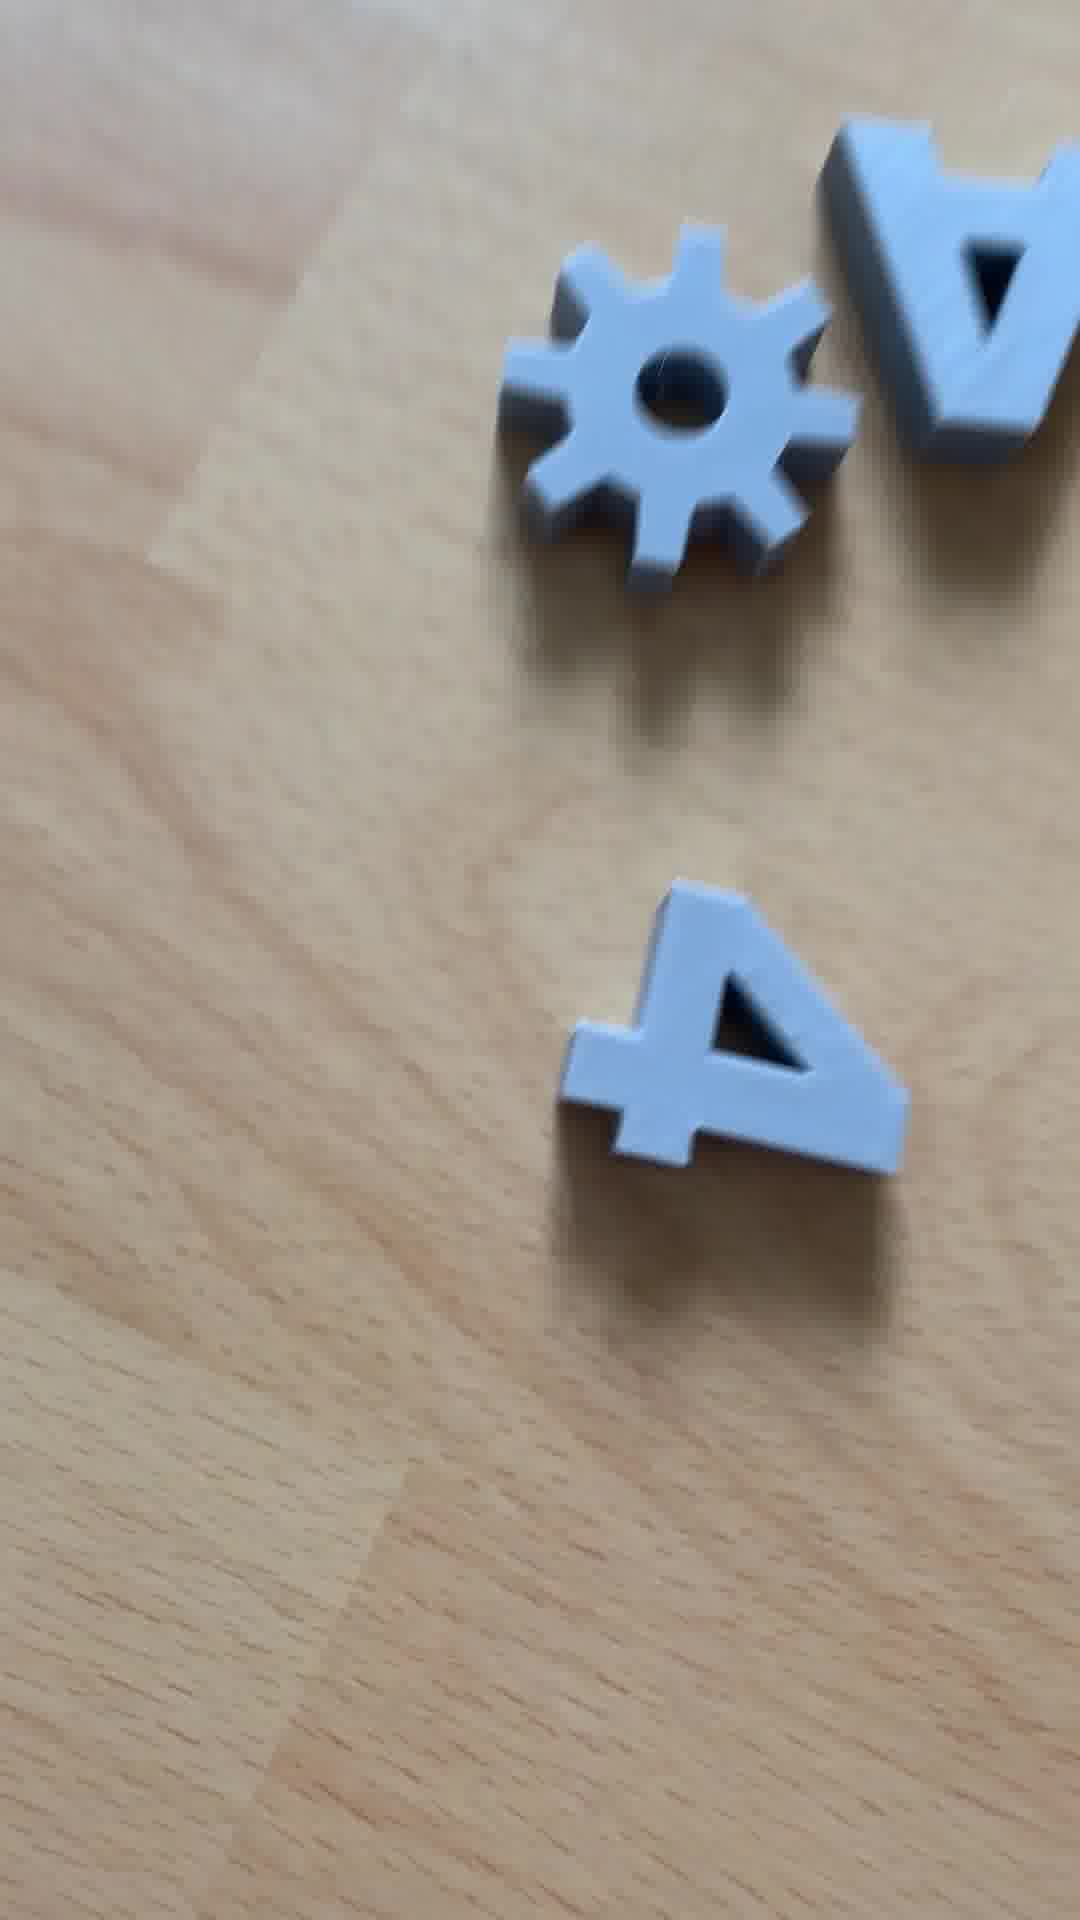Gray A-letter: (814, 116, 1080, 462)
Gray four: (564, 869, 935, 1215)
Gray gear: (504, 225, 841, 599)
